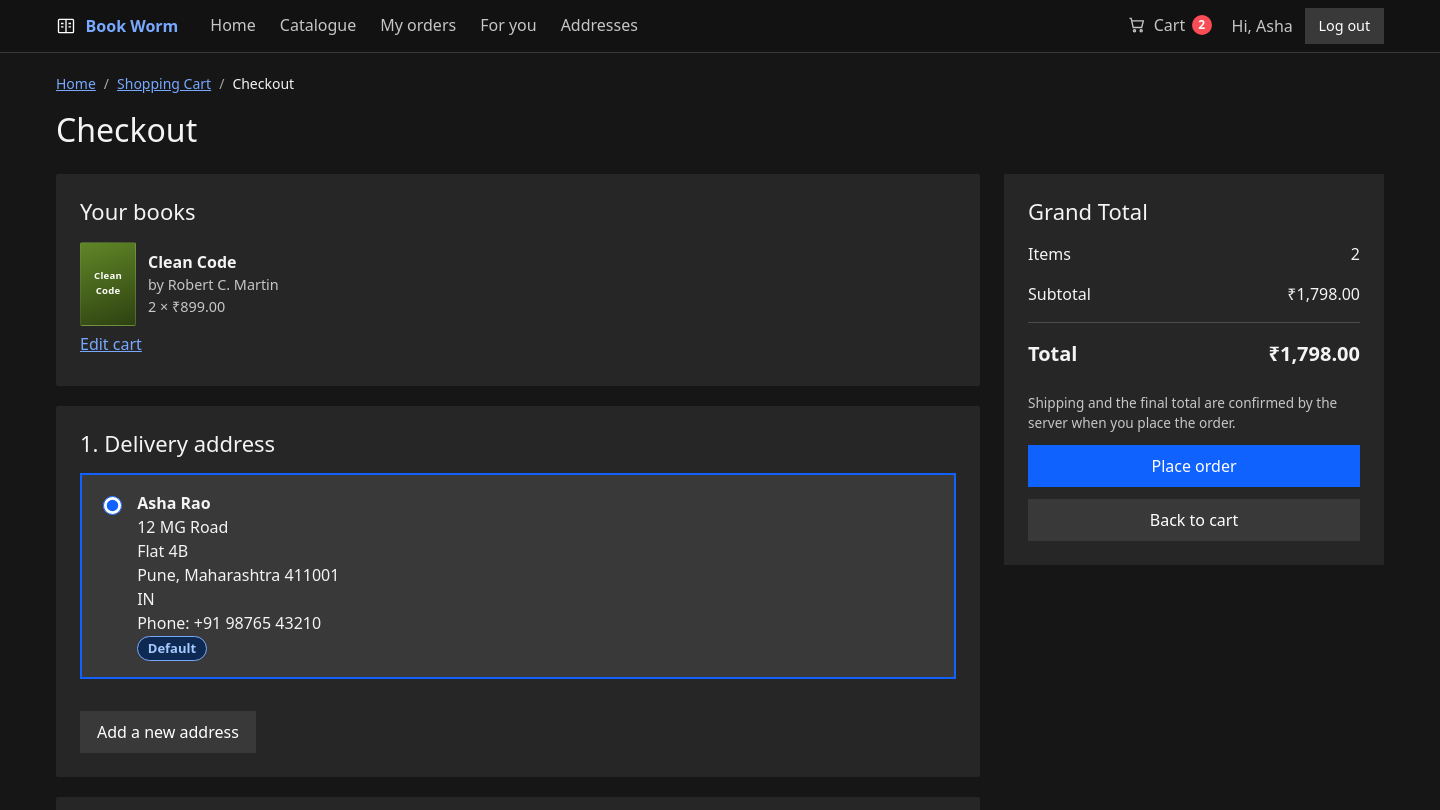
Test: Journey: checkout, payment and confirmation › requires a payment method before placing an order
What coordinates should you click on to do the following:
click the button "Place order"
I would click on:
 (1194, 466)
Its box is 1028,445 -> 1360,487.
(page scrolled)
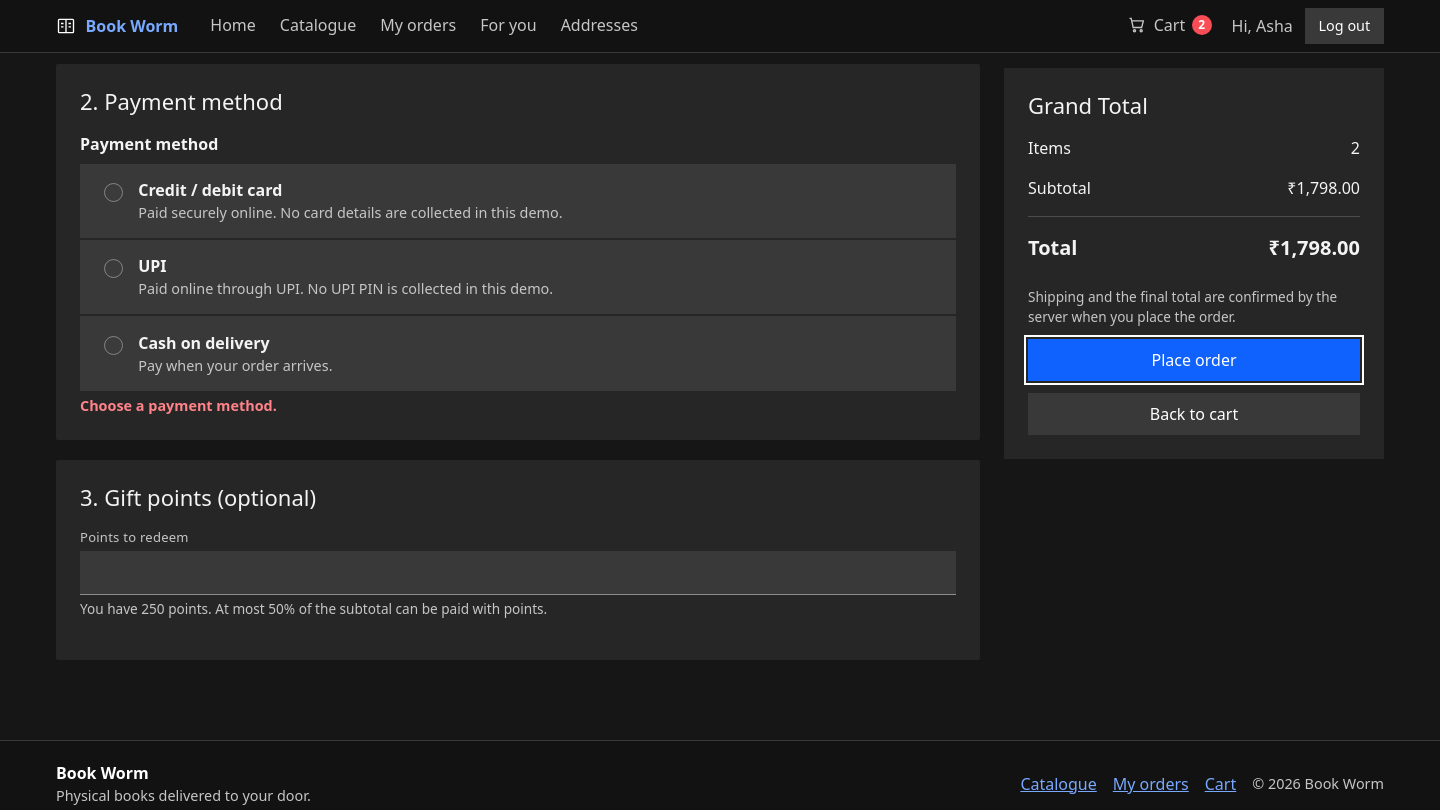
Expected: the text "Choose a payment method." is shown, 80,396 -> 277,415
